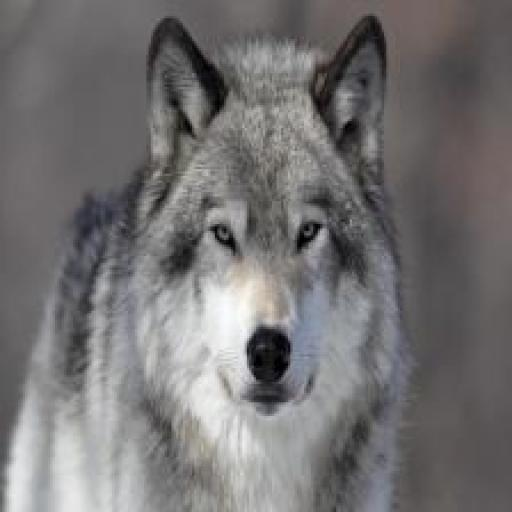wolf: (4, 11, 454, 512)
